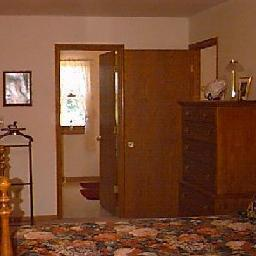Armario: (187, 103, 248, 208)
Cama: (3, 206, 251, 253)
Otro Obstaculo: (3, 121, 34, 223)
Puerta: (126, 52, 190, 212), (99, 49, 116, 205)
